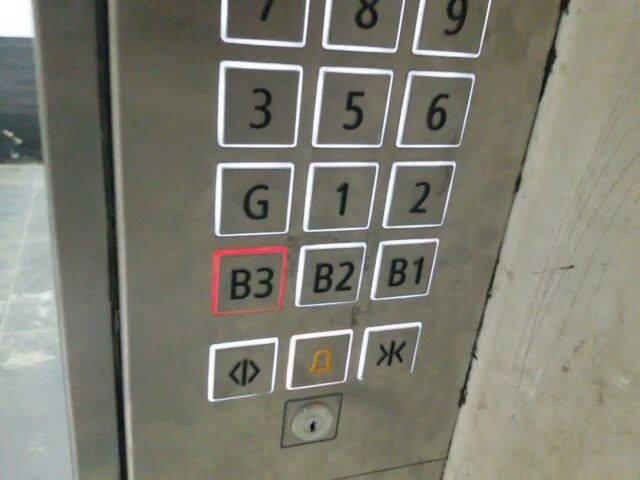1: (299, 159, 379, 233)
2: (380, 159, 458, 229)
3: (217, 61, 302, 148)
5: (312, 67, 394, 149)
6: (397, 71, 475, 150)
9: (412, 1, 493, 58)
B1: (368, 235, 442, 301)
B2: (294, 240, 368, 307)
B3: (212, 247, 286, 315)
G: (212, 159, 295, 238)
alarm: (286, 329, 352, 390)
bt_keyhole: (282, 393, 343, 449)
close: (357, 322, 421, 380)
open: (207, 337, 280, 402)
